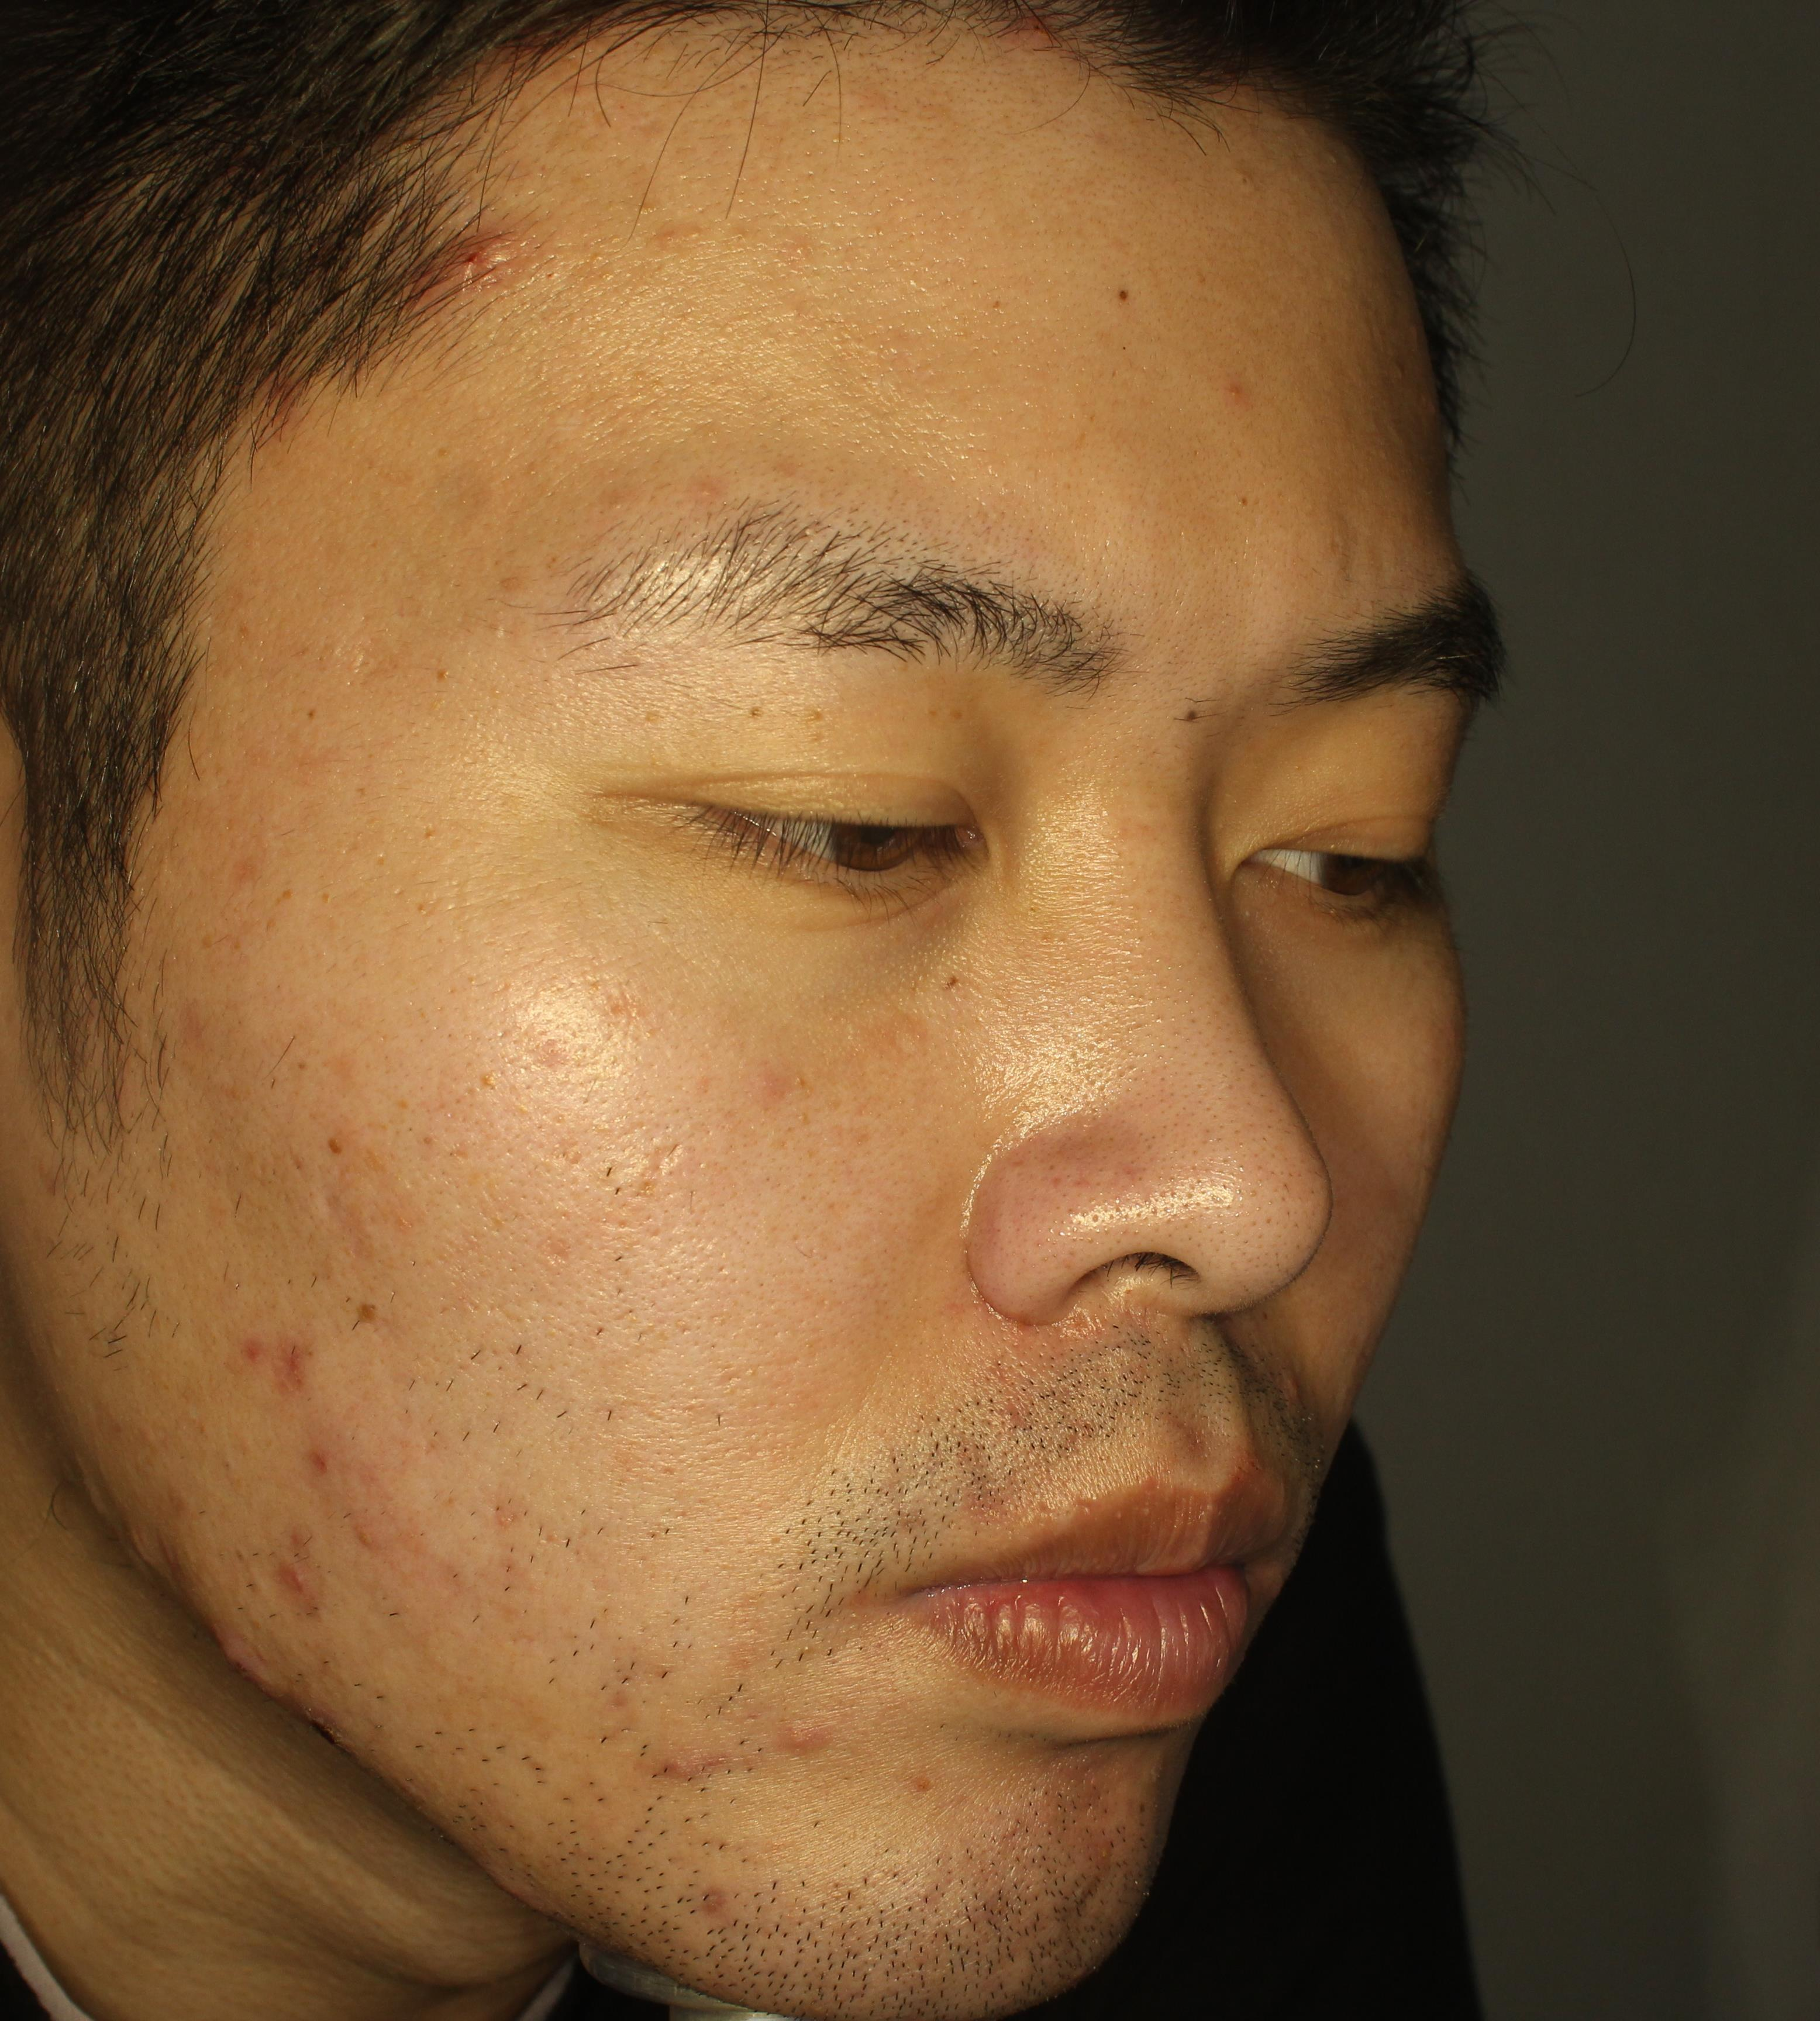fore: (441, 177, 525, 313), (638, 1705, 710, 1817), (740, 1693, 834, 1773), (329, 1496, 404, 1594), (225, 1320, 320, 1396), (1031, 1817, 1094, 1930), (248, 1531, 314, 1626), (283, 1415, 369, 1464)
